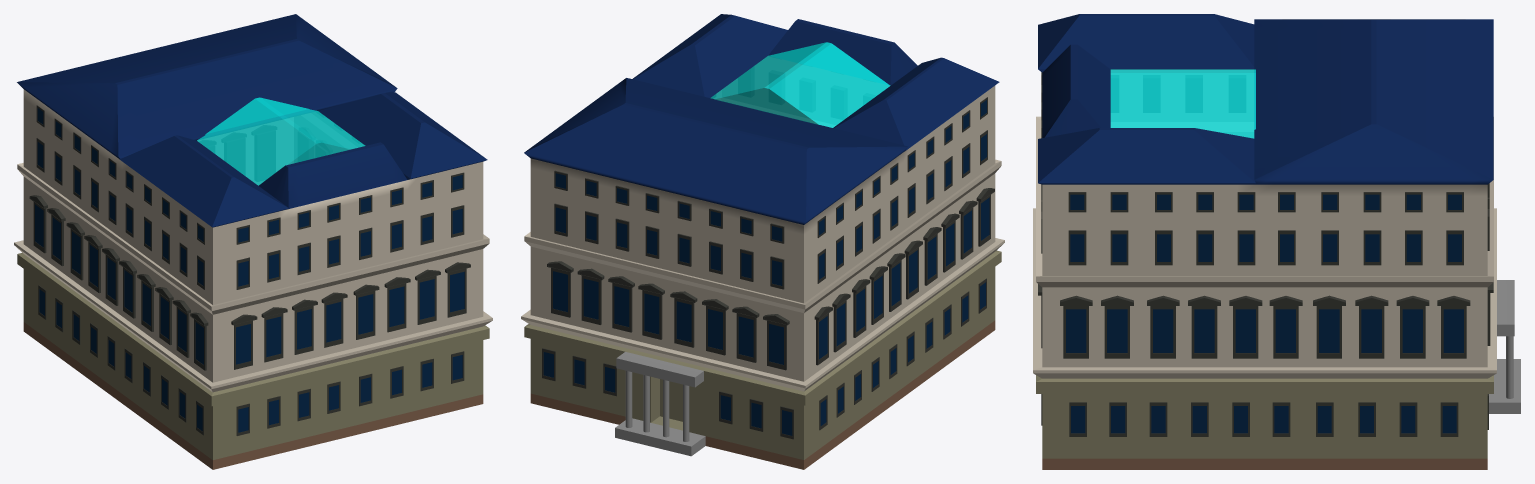
Rendered from Postmuseum.fbx.
3 views of the same model, side by side, from view 1: azimuth 30°, elevation 25°; view 2: azimuth 150°, elevation 25°; view 3: azimuth 270°, elevation 25° (orthographic). The views are drawn at different scales.
Visible parts, largest first — view 1: group2_group4_pCube2; view 2: group2_group4_pCube2; view 3: group2_group4_pCube2.
Part boxes in pixels (<box>): group2_group4_pCube2: <box>14,14,492,469</box>; group2_group4_pCube2: <box>521,14,1004,469</box>; group2_group4_pCube2: <box>1033,14,1520,469</box>.
Size of the model in its own units: 99.82 by 92.27 by 127.
